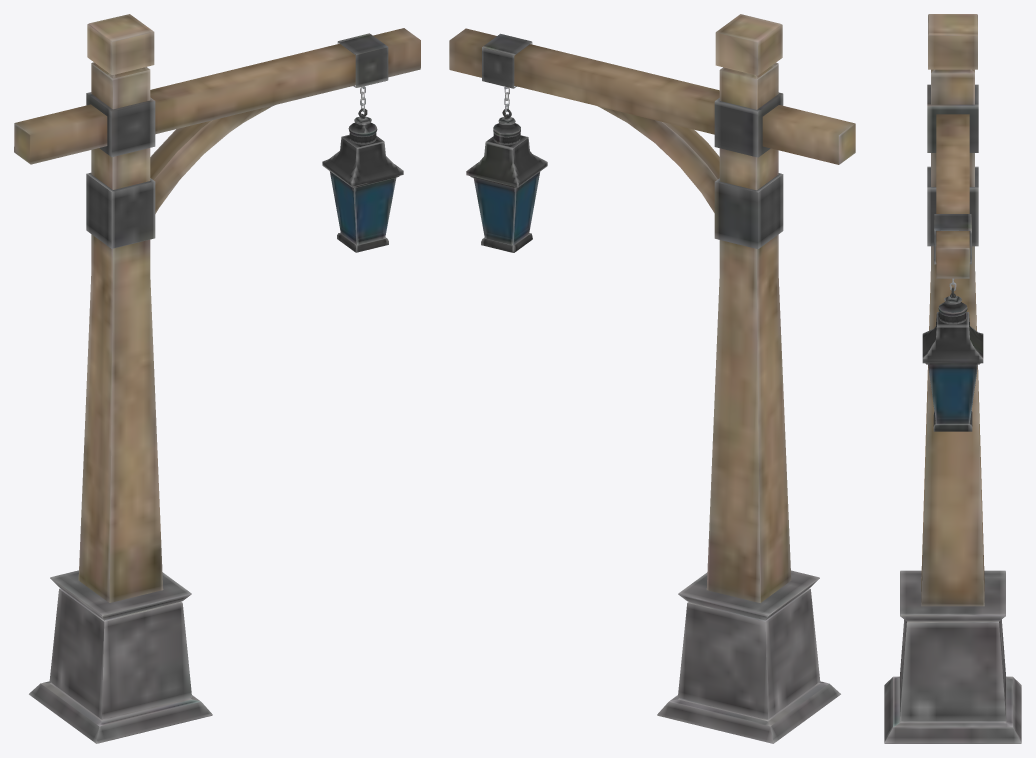
The model's file is lantern.glb.
The picture shows the model from 3 angles, left to right: view 1: azimuth 30°, elevation 25°; view 2: azimuth 150°, elevation 25°; view 3: azimuth 270°, elevation 25°; orthographic projection.
Parts seen in each view (by area): view 1: LanternPole_Body; view 2: LanternPole_Body; view 3: LanternPole_Body.
Part boxes in pixels (x1,y1,x2,y2): LanternPole_Body: [14, 14, 420, 743]; LanternPole_Body: [449, 14, 855, 743]; LanternPole_Body: [884, 14, 1021, 743].
Size of the model in its own units: 15.49 by 25.66 by 4.63.
Materials: 1 (1 with a texture image).
